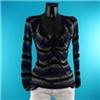maglia: (22, 15, 79, 90)
